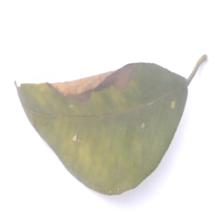black spot: (30, 51, 151, 111)
